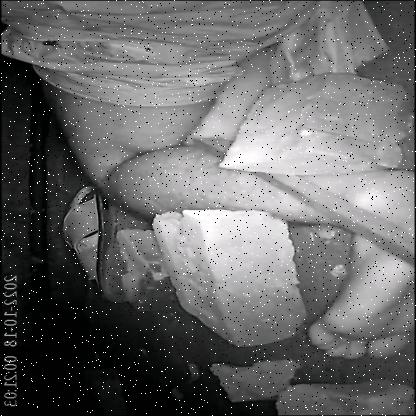leg: (96, 140, 416, 373)
